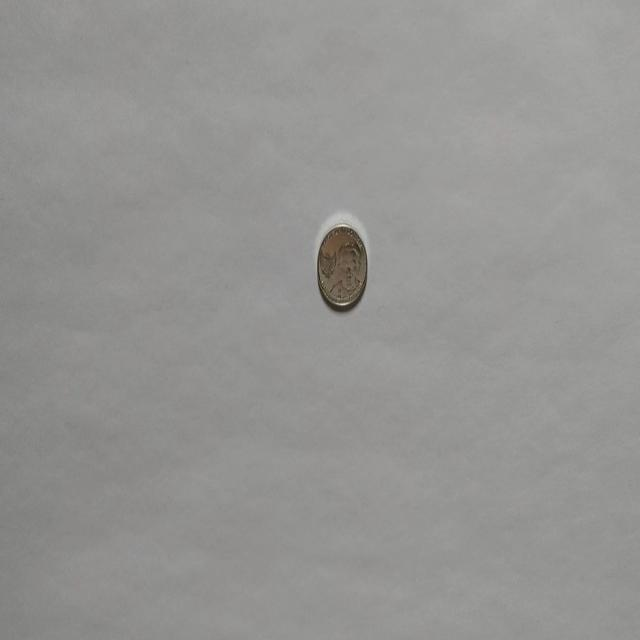seratus rupiah: (316, 222, 368, 310)
